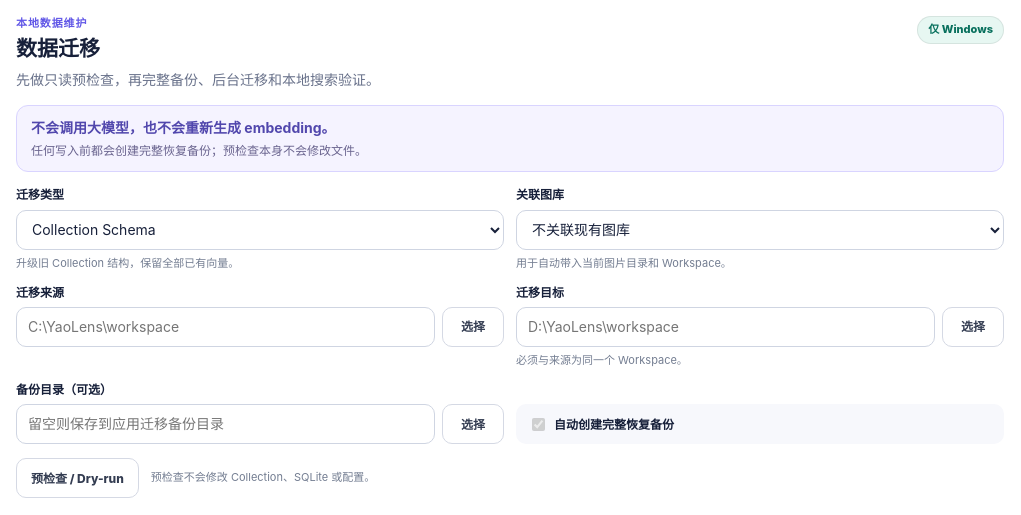
it: DataMigrationSection › offers all four migration types and fills the selected library paths
Select "人物图库" in the dropdown named "migration_library" at (760, 230), box [516,210,1004,250]
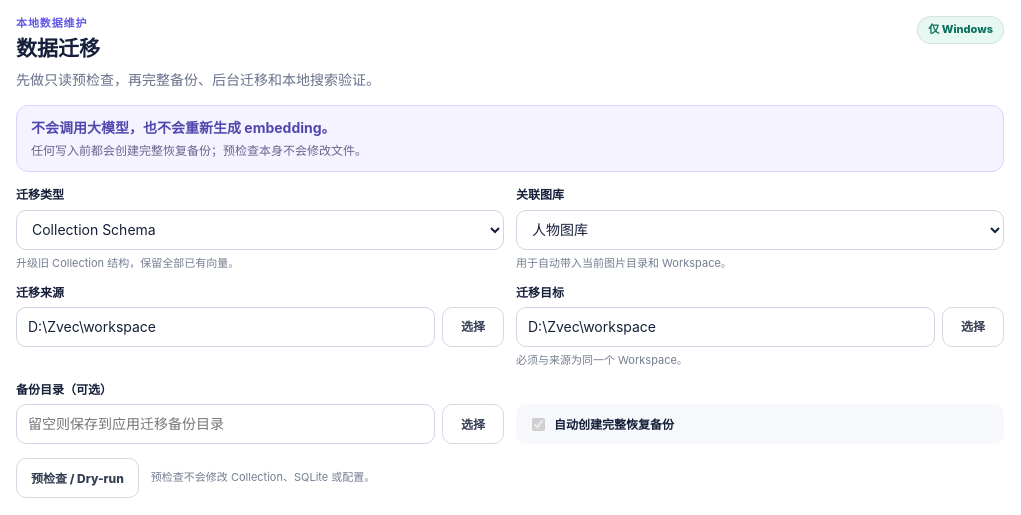
expect the field named "migration_source" holds "D:\\Zvec\\workspace": met, box [16,307,435,347]
expect the field named "migration_target" holds "D:\\Zvec\\workspace": met, box [516,307,935,347]
